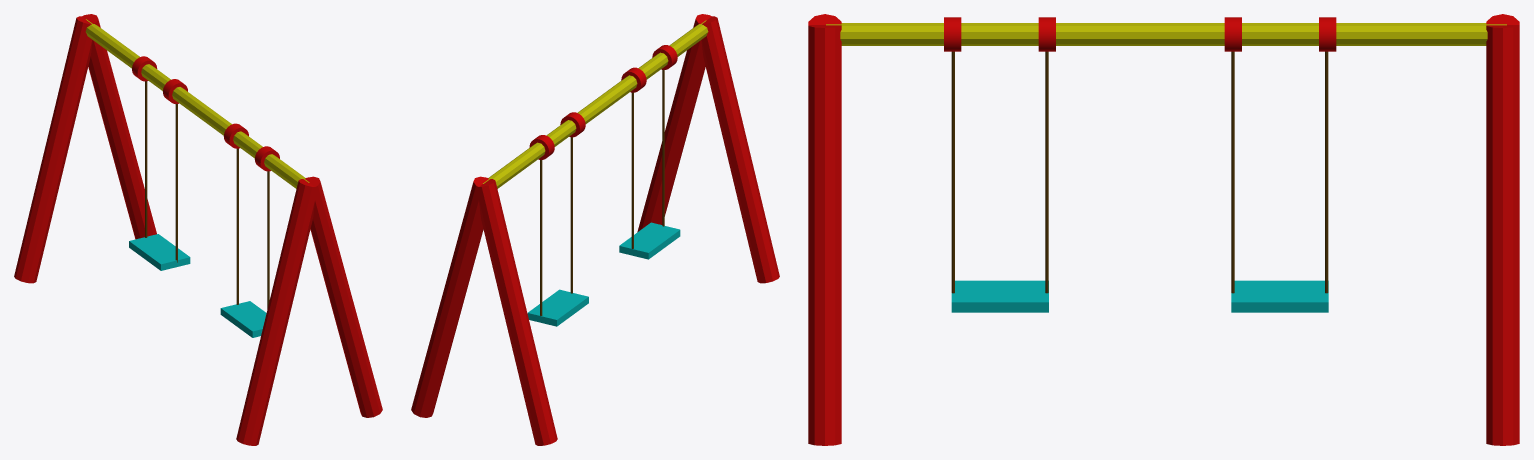
The model's file is SwingSet.fbx.
3 views of the same model, side by side, from view 1: azimuth 30°, elevation 25°; view 2: azimuth 150°, elevation 25°; view 3: azimuth 270°, elevation 25° (orthographic). The views are drawn at different scales.
Visible parts, largest first — view 1: pCylinder156; view 2: pCylinder156; view 3: pCylinder156.
Part boxes in pixels (x1,y1,x2,y2): pCylinder156: (14, 14, 382, 445); pCylinder156: (411, 14, 779, 445); pCylinder156: (808, 14, 1519, 445).
Size of the model in its own units: 2.6 by 4.33 by 7.31.
